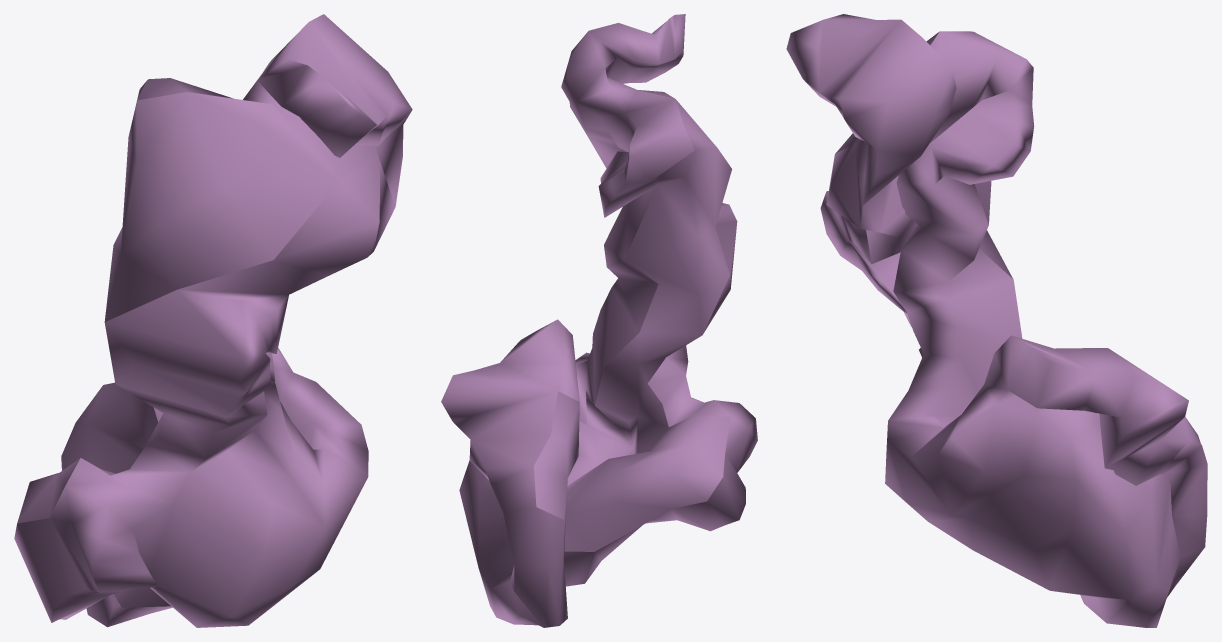
3 renders of one model, left to right at view 1: azimuth 30°, elevation 25°; view 2: azimuth 150°, elevation 25°; view 3: azimuth 270°, elevation 25°, orthographic. The views are drawn at different scales.
Visible parts, largest first — view 1: 左侧额下沟; view 2: 左侧额下沟; view 3: 左侧额下沟.
Part boxes in pixels (bbox=[...]): 左侧额下沟: bbox=[14, 14, 412, 627]; 左侧额下沟: bbox=[441, 14, 757, 627]; 左侧额下沟: bbox=[786, 14, 1207, 627].
Bounding box in the file's own units: 0.0349 × 0.0751 × 0.0475.
